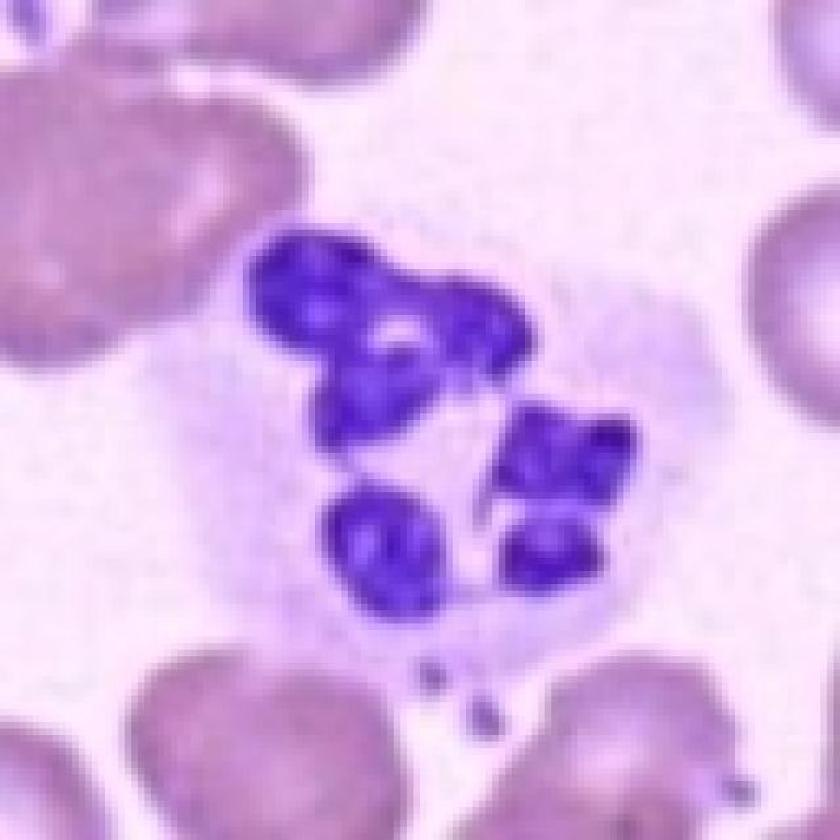neutrophil: (110, 142, 758, 728)
